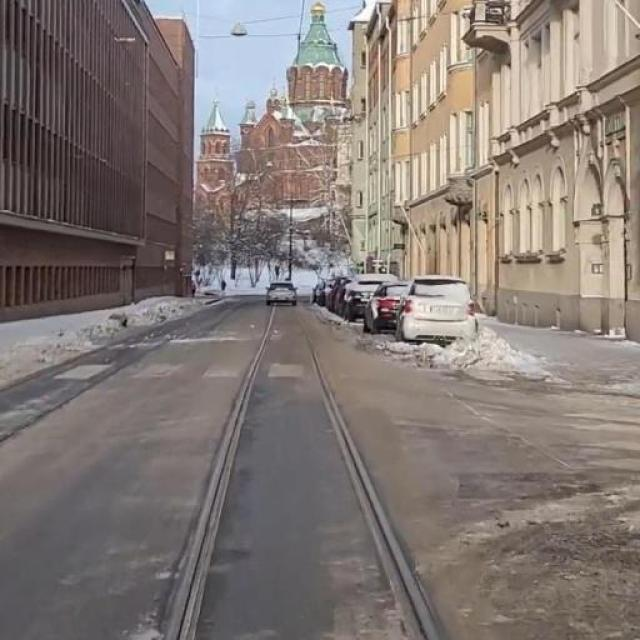vehicle: (257, 279, 298, 308)
